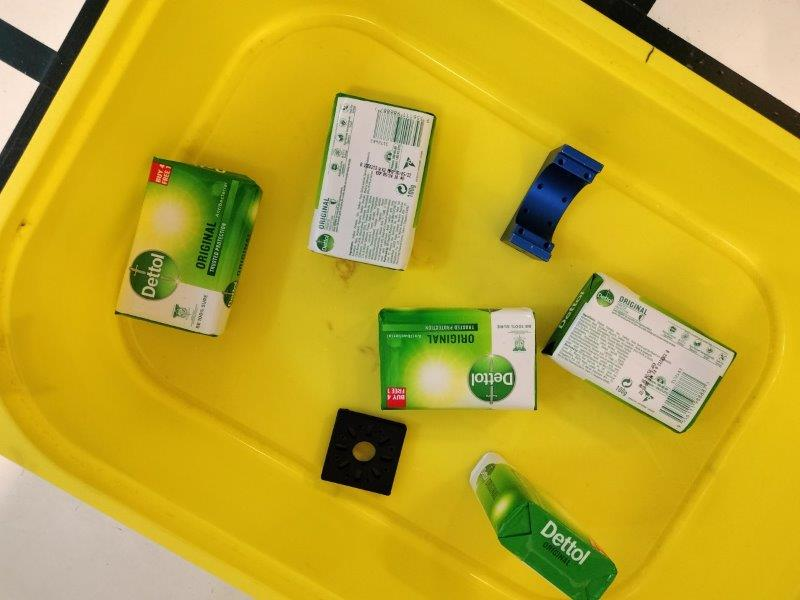Dettol: (541, 272, 737, 433), (113, 156, 263, 339), (306, 95, 435, 270), (469, 452, 619, 600), (377, 308, 537, 411)
